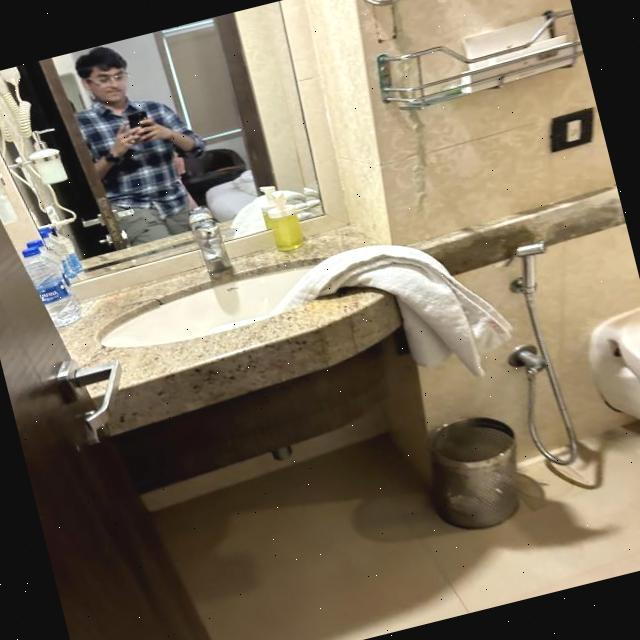clean_floor: (147, 420, 640, 640)
disorganized_towel: (274, 241, 526, 379)
messy_sink: (45, 178, 393, 394)
